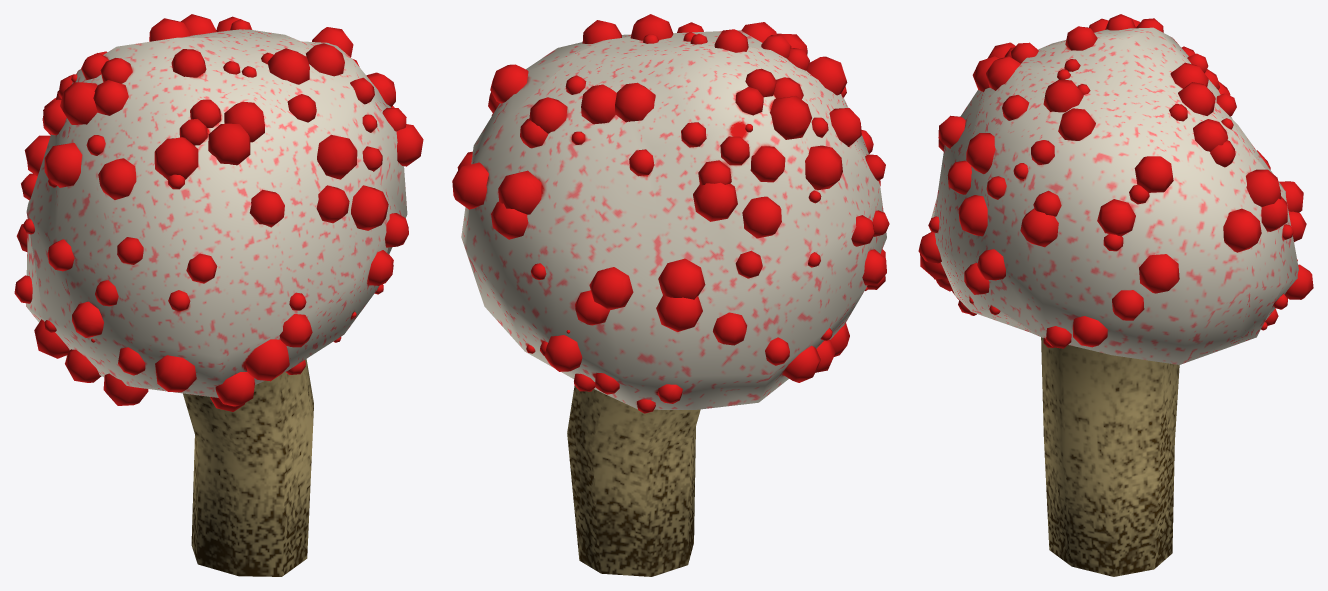
The model's file is champignon2.fbx.
3 views of the same model, side by side, from view 1: azimuth 30°, elevation 25°; view 2: azimuth 150°, elevation 25°; view 3: azimuth 270°, elevation 25° (orthographic). The views are drawn at different scales.
Visible parts, largest first — view 1: champignon_2_LOD0; view 2: champignon_2_LOD0; view 3: champignon_2_LOD0.
Part boxes in pixels (left/top/right/bottom): champignon_2_LOD0: left=14, top=14, right=423, bottom=576; champignon_2_LOD0: left=452, top=14, right=889, bottom=576; champignon_2_LOD0: left=918, top=14, right=1313, bottom=576.
Size of what is drawn, in the model's own units: 236 by 322 by 235.
